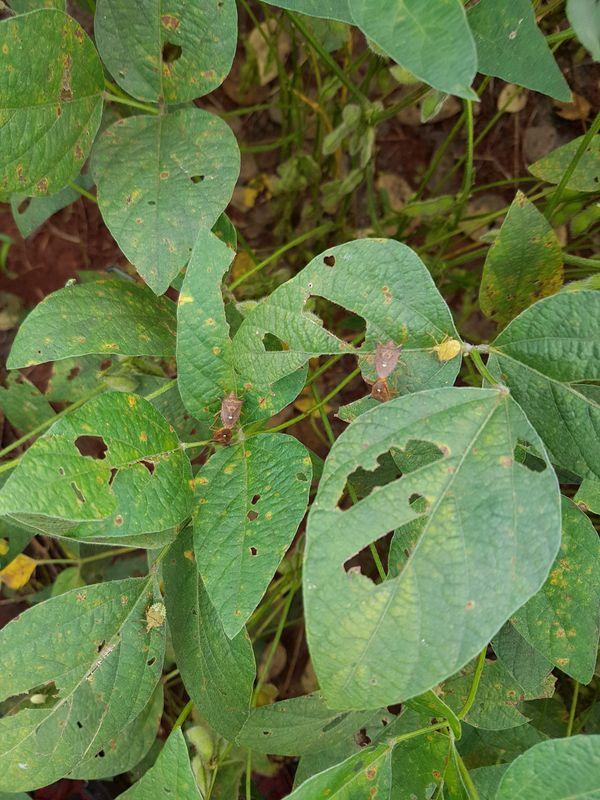Euschistus_heros_adulto: (366, 337, 408, 380), (209, 384, 249, 427), (361, 380, 394, 406), (204, 427, 235, 451)
Euschistus_heros_ninfa: (416, 325, 468, 372), (136, 599, 172, 639)
